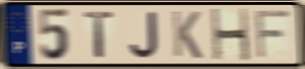5: (38, 7, 75, 63)
F: (254, 8, 293, 61)
H: (209, 7, 252, 63)
J: (128, 10, 161, 61)
K: (170, 9, 204, 61)
T: (82, 10, 116, 60)
